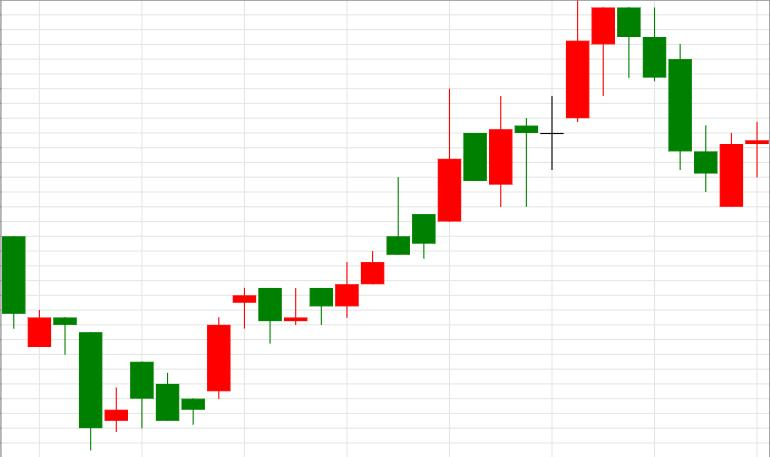hanging_man_fall: (336, 0, 615, 317)
